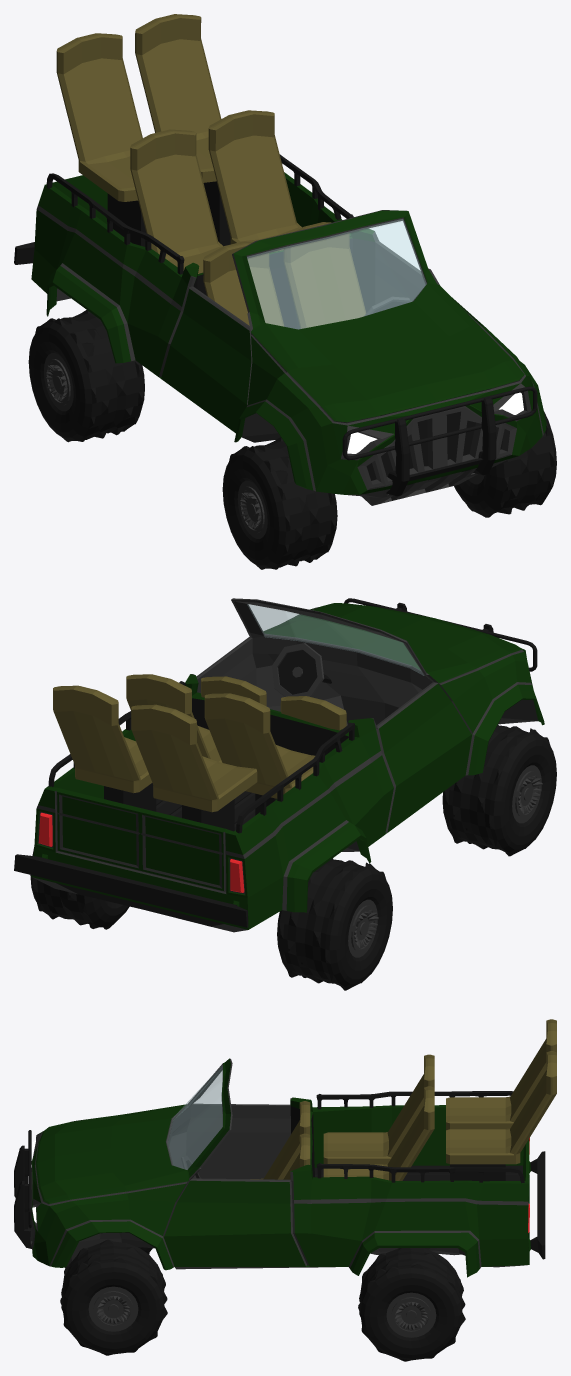
Rendered from Game car 1 colour .fbx.
3 renders of one model, top to bottom at view 1: azimuth 30°, elevation 25°; view 2: azimuth 150°, elevation 25°; view 3: azimuth 270°, elevation 25°, orthographic. The views are drawn at different scales.
Parts seen in each view (by area): view 1: Body, Body.001, wheel, wheel.003, wheel.001, Bullbar; view 2: Body, wheel, wheel.003, Body.001, wheel.002, steering wheel, Bullbar; view 3: Body, wheel.002, wheel.001, Body.001, Bullbar.
Boxes of the visible parts, bbox=[...] form: Body: bbox=[14, 14, 546, 505]; Body.001: bbox=[247, 219, 426, 329]; wheel: bbox=[28, 310, 144, 442]; wheel.003: bbox=[222, 437, 337, 569]; wheel.001: bbox=[454, 411, 556, 517]; Bullbar: bbox=[342, 386, 537, 496]; Body: bbox=[14, 598, 544, 932]; wheel: bbox=[277, 858, 392, 990]; wheel.003: bbox=[442, 724, 556, 856]; Body.001: bbox=[247, 604, 424, 675]; wheel.002: bbox=[30, 847, 129, 929]; steering wheel: bbox=[271, 643, 331, 697]; Bullbar: bbox=[344, 598, 537, 682]; Body: bbox=[30, 1019, 556, 1277]; wheel.002: bbox=[358, 1248, 465, 1361]; wheel.001: bbox=[60, 1239, 167, 1355]; Body.001: bbox=[167, 1065, 222, 1169]; Bullbar: bbox=[14, 1130, 31, 1248].
Size of the model in its own units: 433 by 410 by 775.
